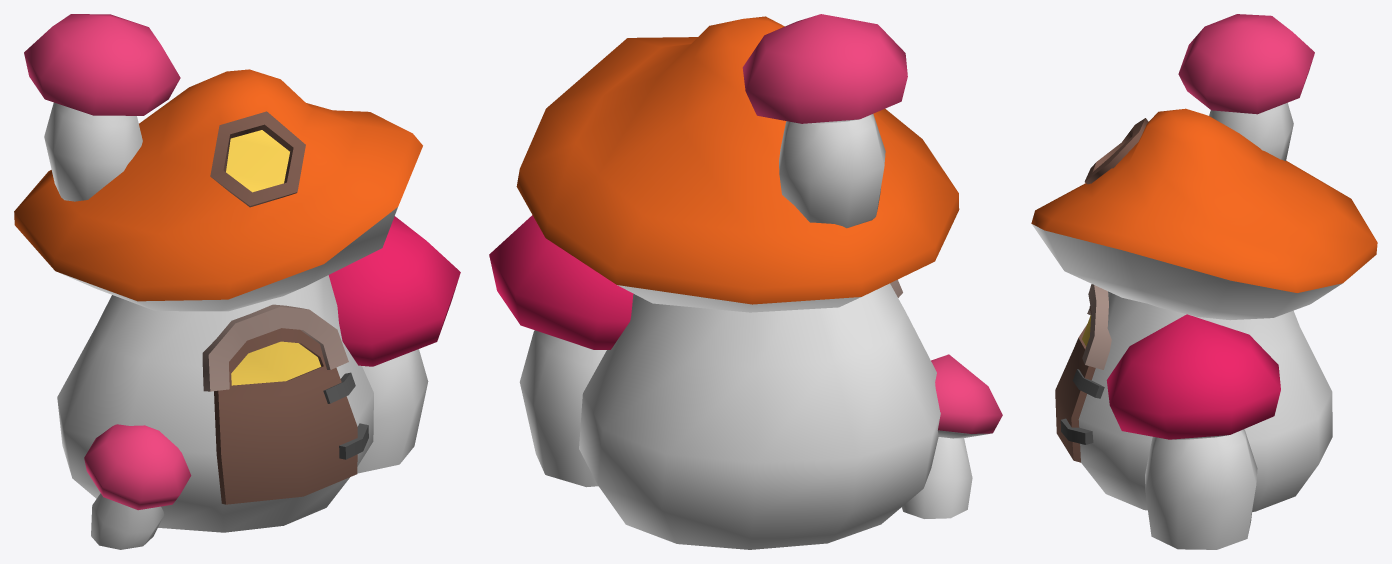
Rendered from house_004.fbx.
3 renders of one model, left to right at view 1: azimuth 30°, elevation 25°; view 2: azimuth 150°, elevation 25°; view 3: azimuth 270°, elevation 25°, orthographic. The views are drawn at different scales.
Visible parts, largest first — view 1: house_004; view 2: house_004; view 3: house_004.
Boxes of the visible parts, x1,y1,x2,y2 form: house_004: (14,14,460,549); house_004: (489,14,1002,549); house_004: (1031,14,1377,549).
Bounding box in the file's own units: 368 × 322 × 422.
2 materials, 2 textured.
